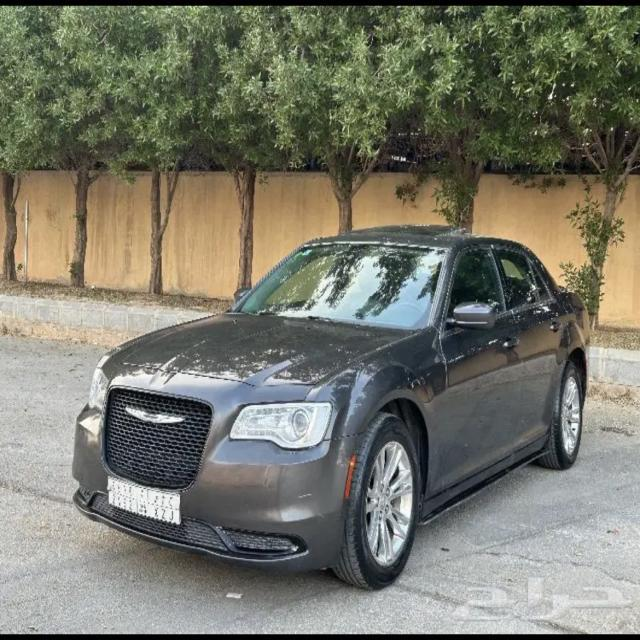license_plate: (108, 475, 182, 528)
